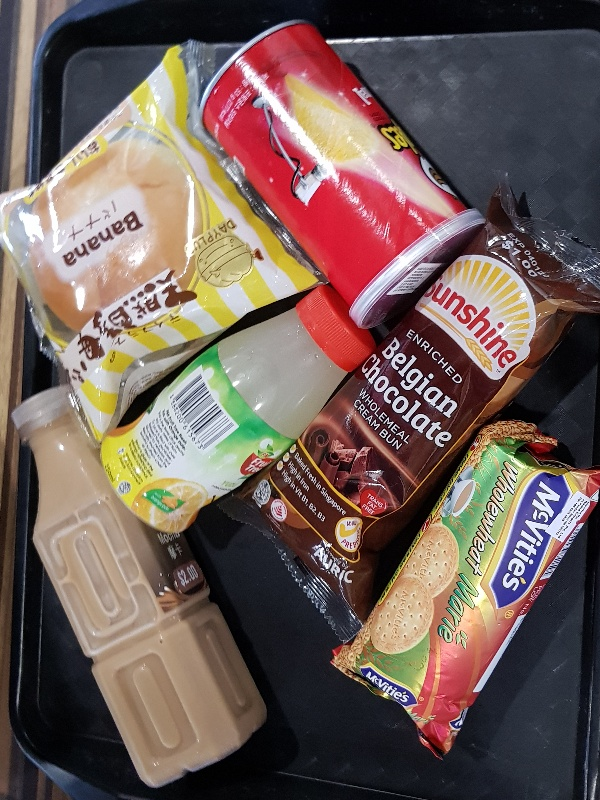Dayplus Banana: (1, 41, 327, 444)
Fruit Tree Yuzu Mixed Juice Drink: (100, 285, 376, 534)
McVitie's Wholewheat Marie: (331, 418, 600, 762)
Mocha: (10, 380, 268, 787)
Pringles Original: (197, 17, 486, 334)
Sunshine Belgium Chocolate Wholemeal Cream Bun: (234, 193, 600, 619)
